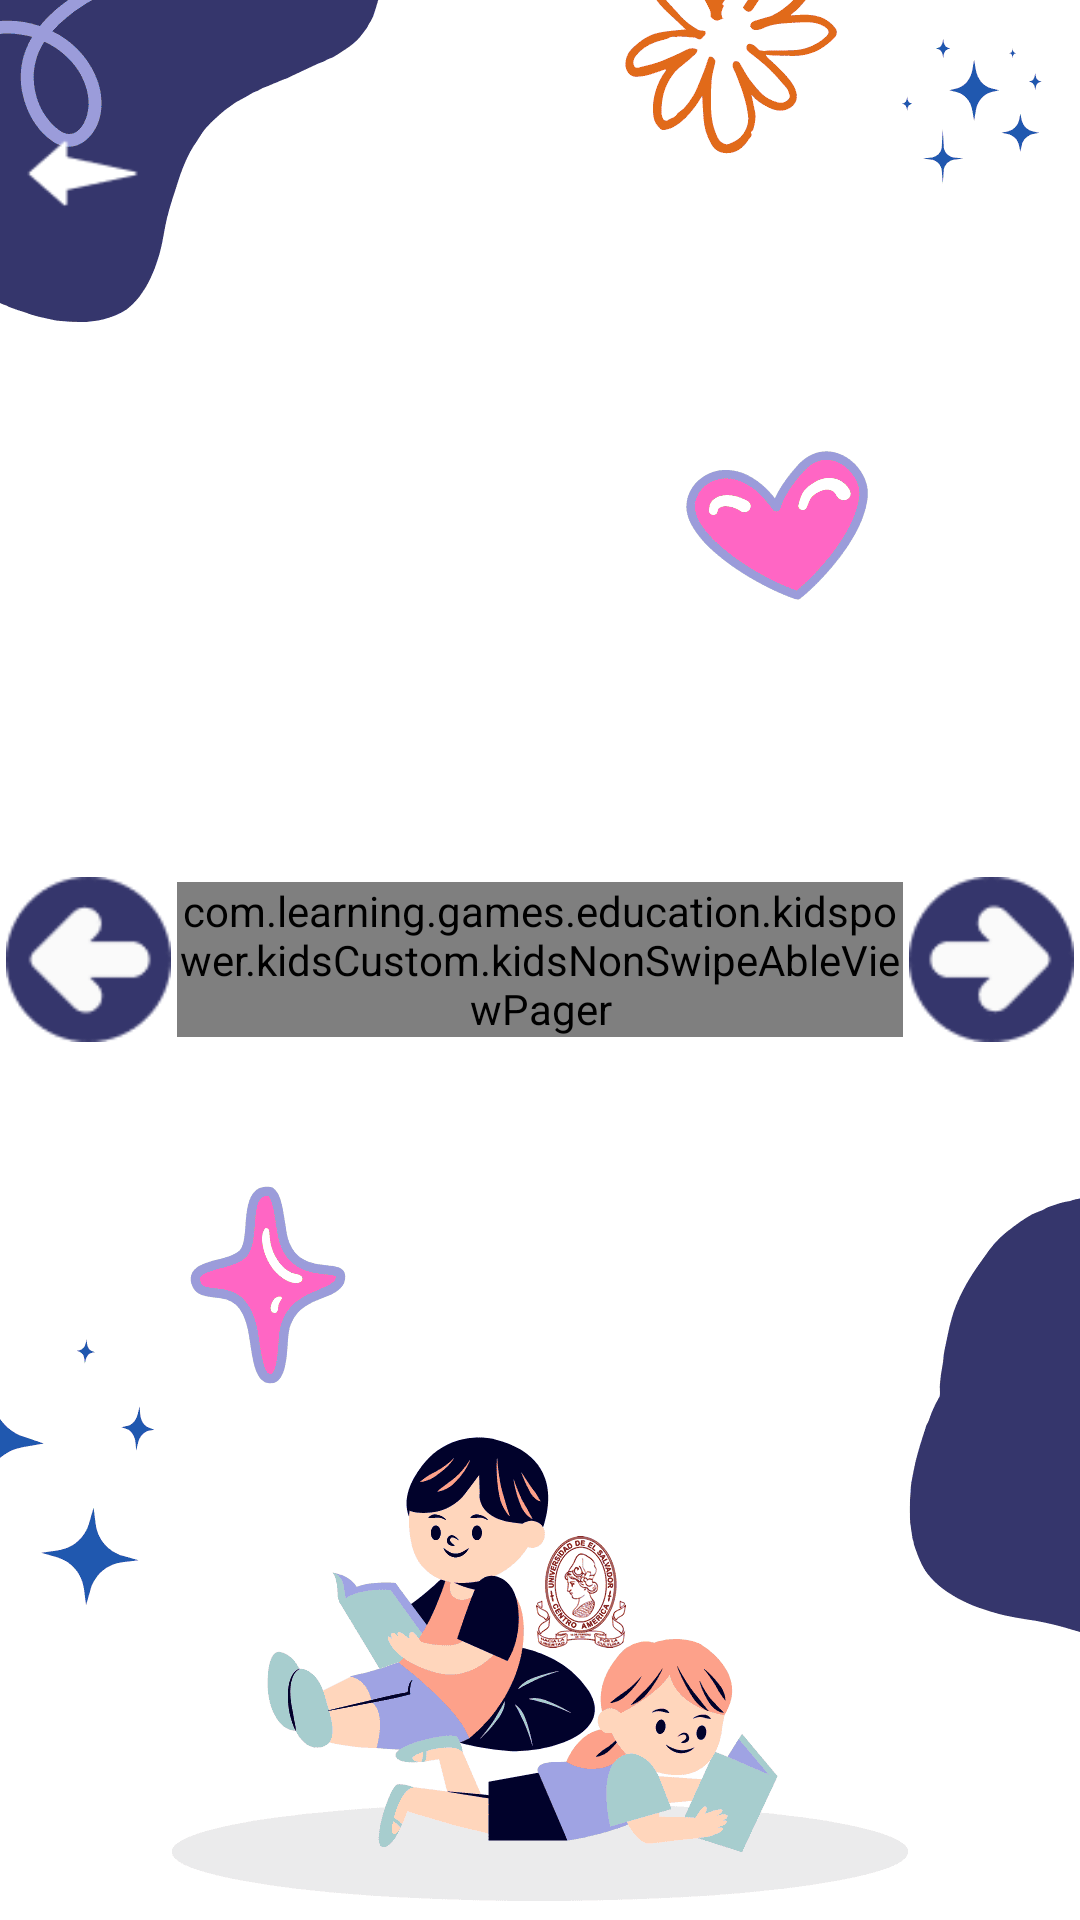

Icons on this 1080×1920 Android screen, each with its box as [x1,y1,x2,y2]:
details left: [6,877,171,1042]
details right: [909,877,1074,1042]
left back: [26,106,138,206]
